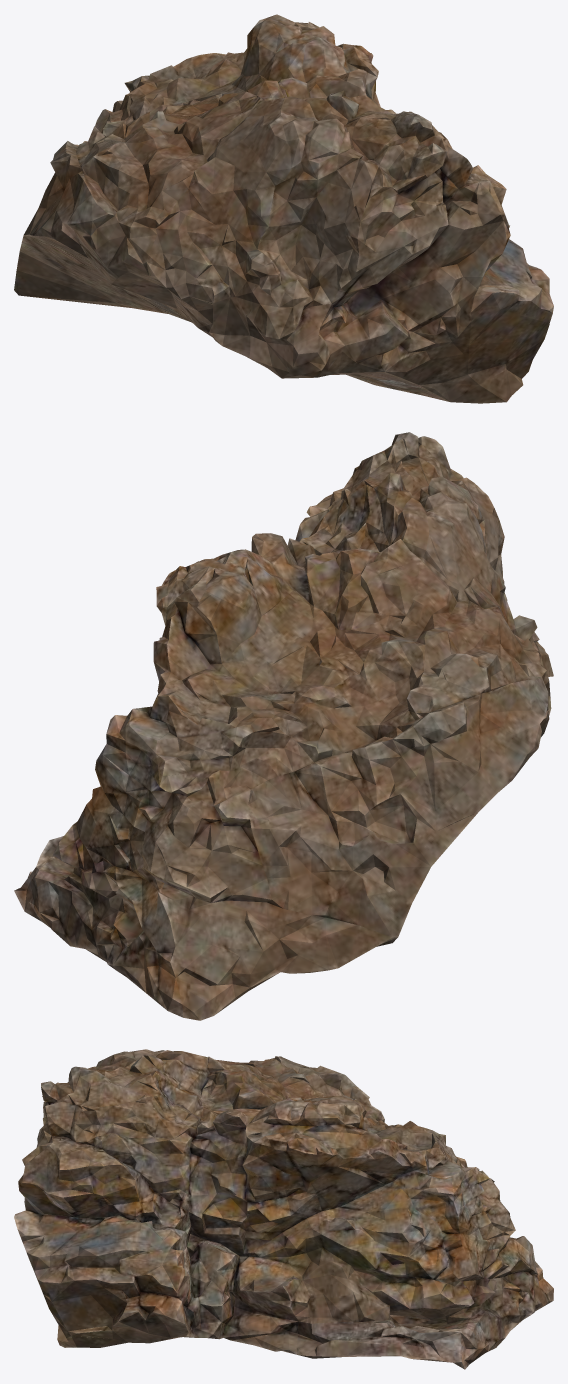
File: boulder_01.glb
The picture shows the model from 3 angles, top to bottom: view 1: azimuth 30°, elevation 25°; view 2: azimuth 150°, elevation 25°; view 3: azimuth 270°, elevation 25°; orthographic projection. The views are drawn at different scales.
Parts seen in each view (by area): view 1: boulder_01; view 2: boulder_01; view 3: boulder_01.
Part boxes in pixels (x1=…): boulder_01: x1=14, y1=14, x2=553, y2=403; boulder_01: x1=14, y1=432, x2=553, y2=1020; boulder_01: x1=14, y1=1049, x2=553, y2=1369.
Size of the model in its own units: 1.27 by 1 by 1.83.
Materials: 1 (1 with a texture image).
